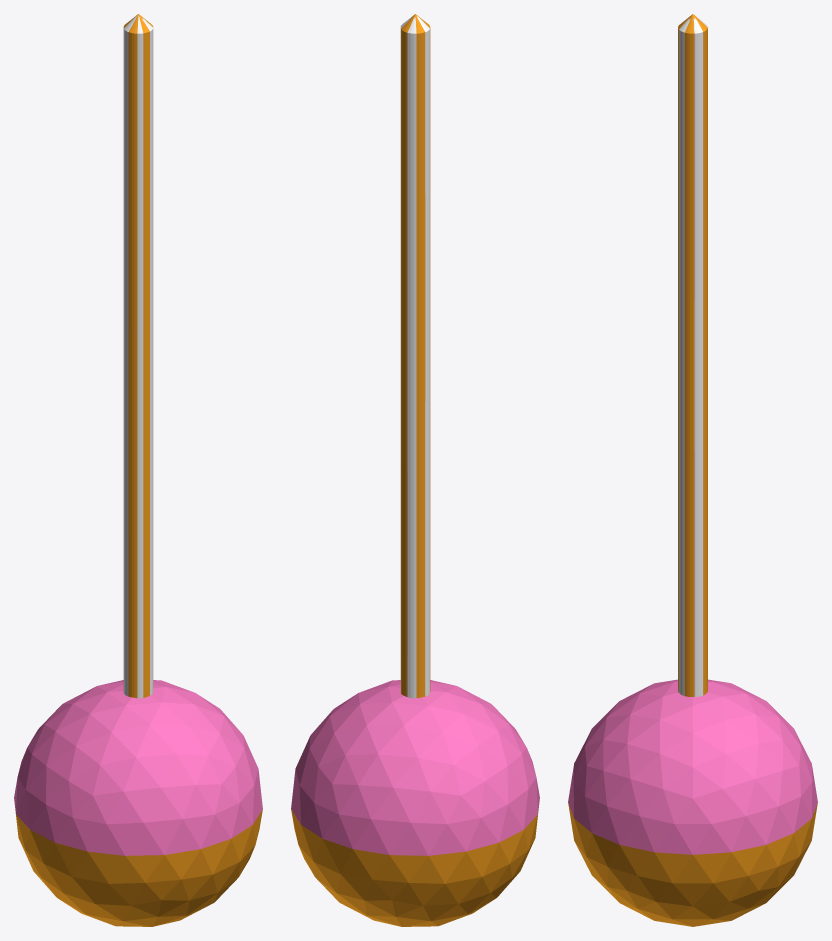
The model's file is hummer_ball_coloered.fbx.
The picture shows the model from 3 angles, left to right: view 1: azimuth 30°, elevation 25°; view 2: azimuth 150°, elevation 25°; view 3: azimuth 270°, elevation 25°; orthographic projection.
Parts seen in each view (by area): view 1: 棱角球; view 2: 棱角球; view 3: 棱角球.
Boxes of the visible parts, bbox=[...] form: 棱角球: bbox=[14, 14, 262, 926]; 棱角球: bbox=[291, 14, 539, 926]; 棱角球: bbox=[568, 14, 817, 926].
Bounding box in the file's own units: 400 × 1592 × 400.
